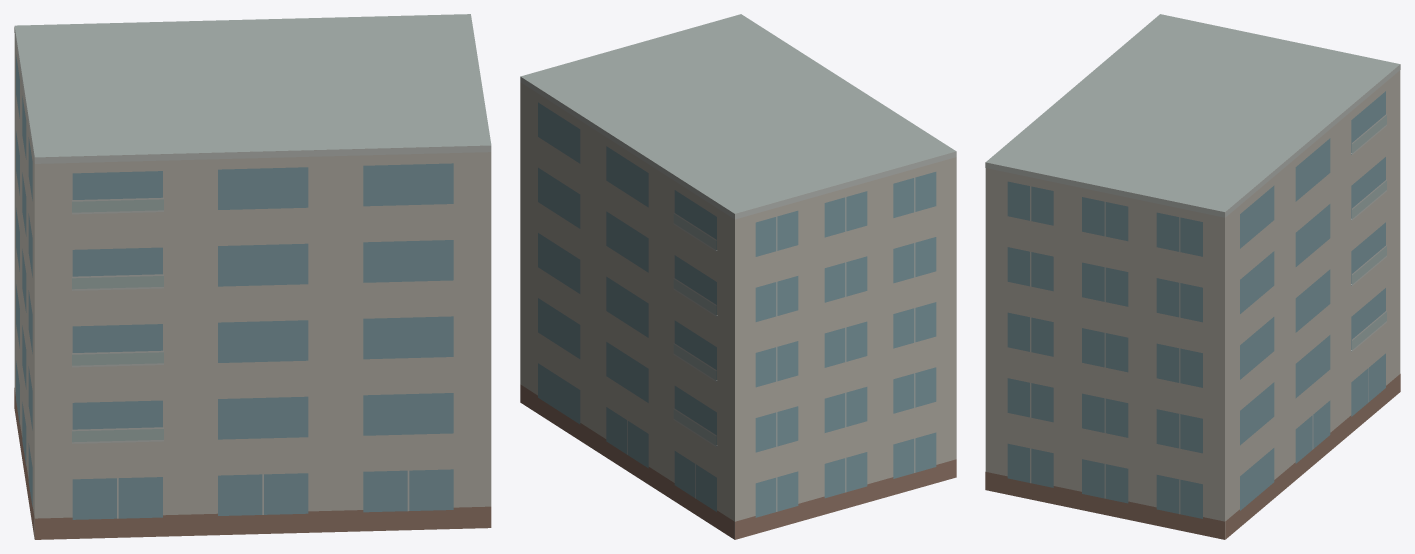
The model's file is survey-upis-32989801.glb.
3 renders of one model, left to right at view 1: azimuth 30°, elevation 25°; view 2: azimuth 150°, elevation 25°; view 3: azimuth 270°, elevation 25°, orthographic. The views are drawn at different scales.
Visible parts, largest first — view 1: survey-upis-32989801.tmp; view 2: survey-upis-32989801.tmp; view 3: survey-upis-32989801.tmp.
Boxes of the visible parts, bbox=[...] form: survey-upis-32989801.tmp: bbox=[14, 14, 491, 539]; survey-upis-32989801.tmp: bbox=[520, 14, 956, 539]; survey-upis-32989801.tmp: bbox=[985, 14, 1400, 539].
Bounding box in the file's own units: 18.43 × 14.2 × 16.31.
